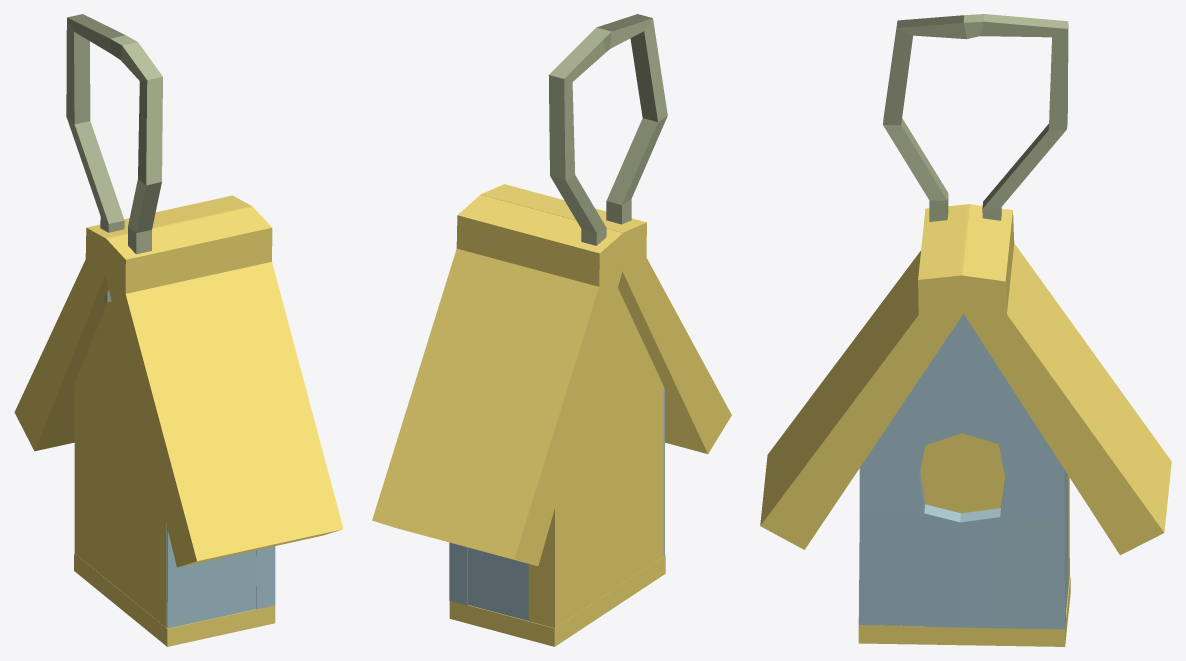
The model's file is Patio_Feeder.fbx.
3 renders of one model, left to right at view 1: azimuth 30°, elevation 25°; view 2: azimuth 150°, elevation 25°; view 3: azimuth 270°, elevation 25°, orthographic. The views are drawn at different scales.
Parts seen in each view (by area): view 1: Patio_Feeder; view 2: Patio_Feeder; view 3: Patio_Feeder.
Boxes of the visible parts, box(x1,y1,x2,y2) form: Patio_Feeder: box(14, 14, 343, 646); Patio_Feeder: box(372, 14, 731, 646); Patio_Feeder: box(760, 14, 1171, 646).
Bounding box in the file's own units: 18.11 × 61.94 × 39.99.
